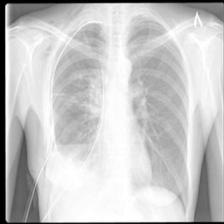tuberculosis: (49, 16, 193, 214)
